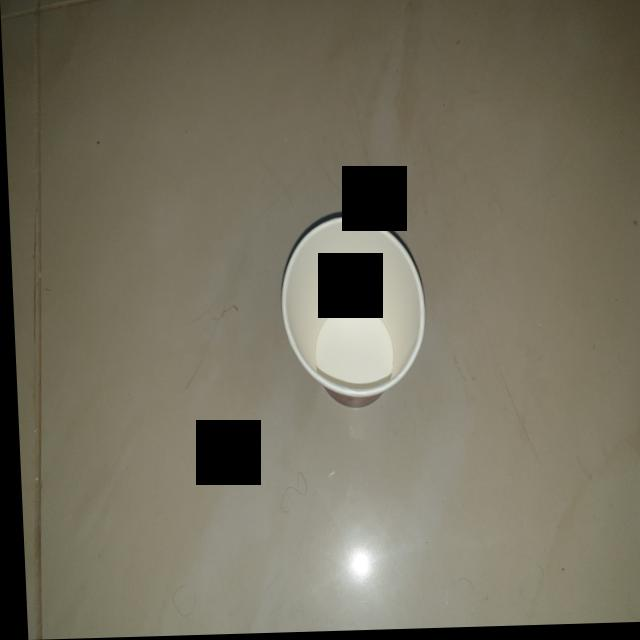cups: (275, 209, 428, 415)
